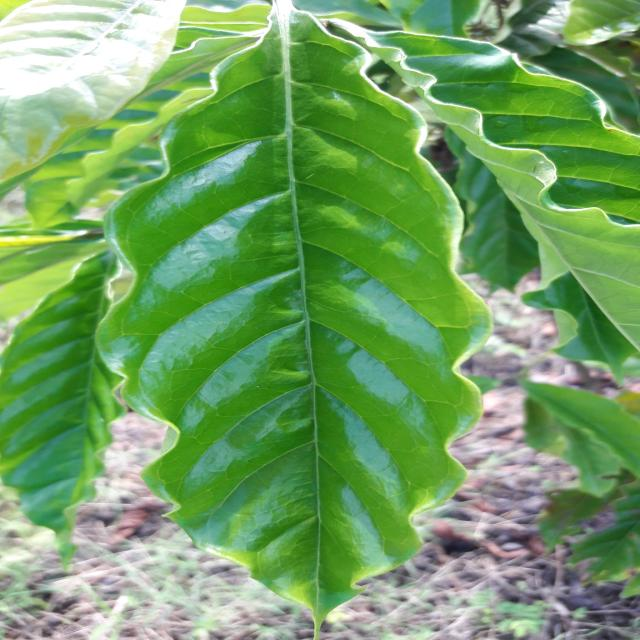Sanas: (97, 1, 486, 626)
